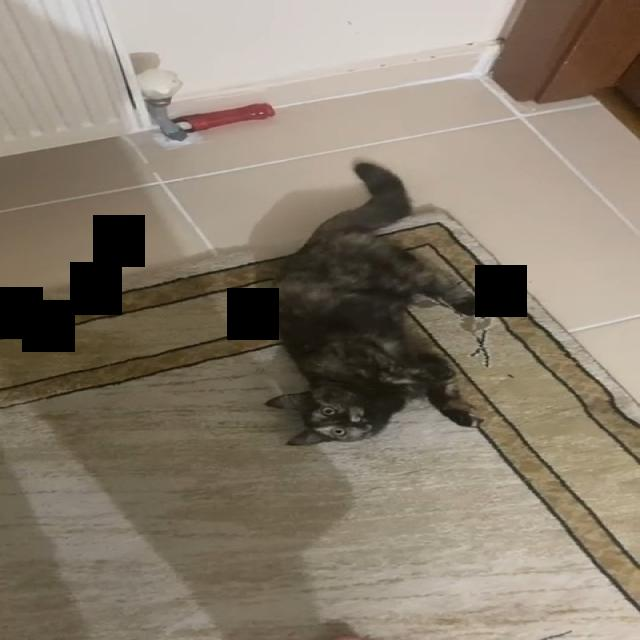authorized: (263, 160, 488, 446)
